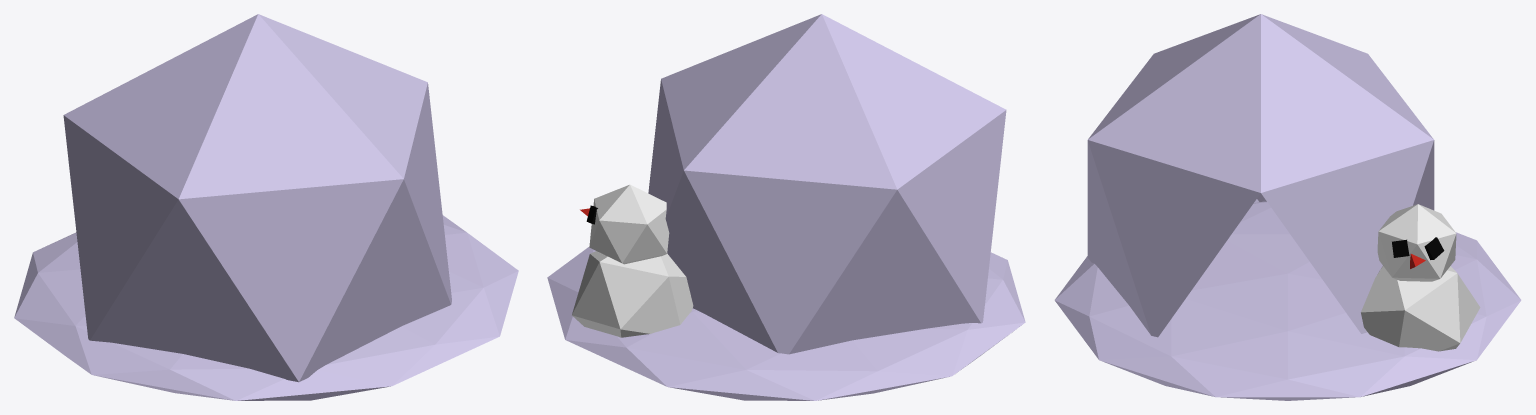
The model's file is 寒帯の巣.fbx.
3 views of the same model, side by side, from view 1: azimuth 30°, elevation 25°; view 2: azimuth 150°, elevation 25°; view 3: azimuth 270°, elevation 25° (orthographic). The views are drawn at different scales.
Visible parts, largest first — view 1: ICO球.004; view 2: ICO球.004, ICO球.001; view 3: ICO球.004, ICO球.001, 立方体.
Boxes of the visible parts, x1=… form: ICO球.004: x1=14, y1=14, x2=518, y2=400; ICO球.004: x1=547, y1=14, x2=1025, y2=400; ICO球.001: x1=572, y1=184, x2=693, y2=337; ICO球.004: x1=1054, y1=14, x2=1521, y2=400; ICO球.001: x1=1361, y1=204, x2=1480, y2=351; 立方体: x1=1392, y1=237, x2=1444, y2=259.
Bounding box in the file's own units: 225 × 164 × 229.
